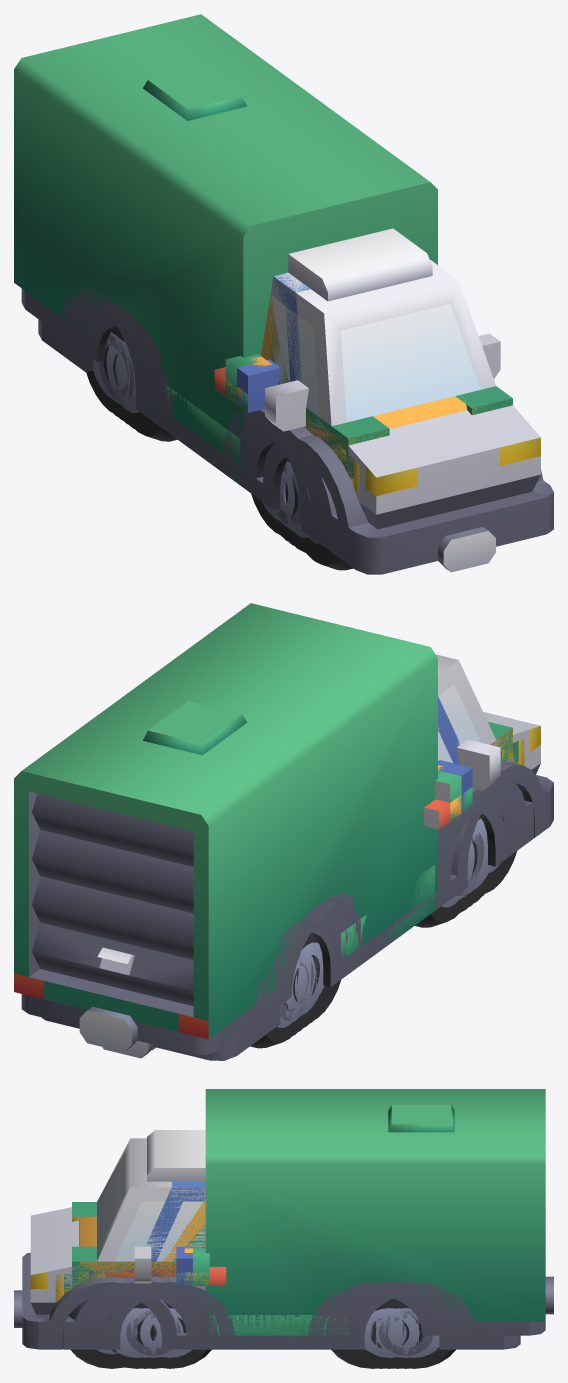
Rendered from traffic-cars.glb.
3 renders of one model, top to bottom at view 1: azimuth 30°, elevation 25°; view 2: azimuth 150°, elevation 25°; view 3: azimuth 270°, elevation 25°, orthographic. The views are drawn at different scales.
Visible parts, largest first — view 1: door, body (×3), wheel-front-right (×3), wheel-back-right (×2); view 2: door, body (×3), wheel-front-right (×3), wheel-back-right (×2); view 3: door, wheel-front-right (×3), body (×3), wheel-back-right (×2).
Part boxes in pixels (x1=…): door: x1=14, y1=14, x2=553, y2=574; body (×3): x1=38, y1=291, x2=512, y2=557; wheel-front-right (×3): x1=47, y1=259, x2=430, y2=553; wheel-back-right (×2): x1=65, y1=293, x2=467, y2=557; door: x1=14, y1=603, x2=553, y2=1054; body (×3): x1=41, y1=721, x2=532, y2=1060; wheel-front-right (×3): x1=152, y1=696, x2=529, y2=1050; wheel-back-right (×2): x1=266, y1=745, x2=533, y2=1034; door: x1=14, y1=1089, x2=553, y2=1368; wheel-front-right (×3): x1=64, y1=1181, x2=495, y2=1368; body (×3): x1=55, y1=1202, x2=520, y2=1368; wheel-back-right (×2): x1=47, y1=1199, x2=460, y2=1368.
Size of the model in its own units: 2.03 by 2.64 by 5.69.
1 material, 1 textured.
